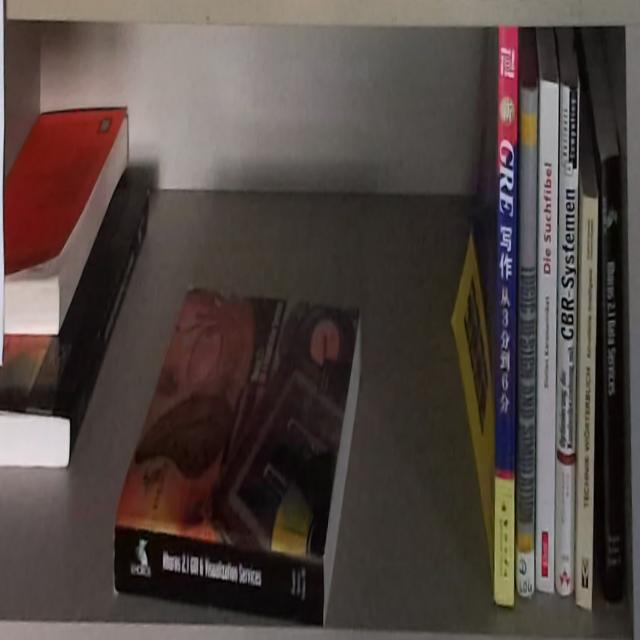Book Spine: (69, 158, 152, 473), (114, 519, 325, 630), (494, 26, 519, 611), (555, 85, 581, 599), (536, 83, 561, 591), (603, 147, 626, 601), (516, 87, 535, 599), (576, 199, 598, 619)
